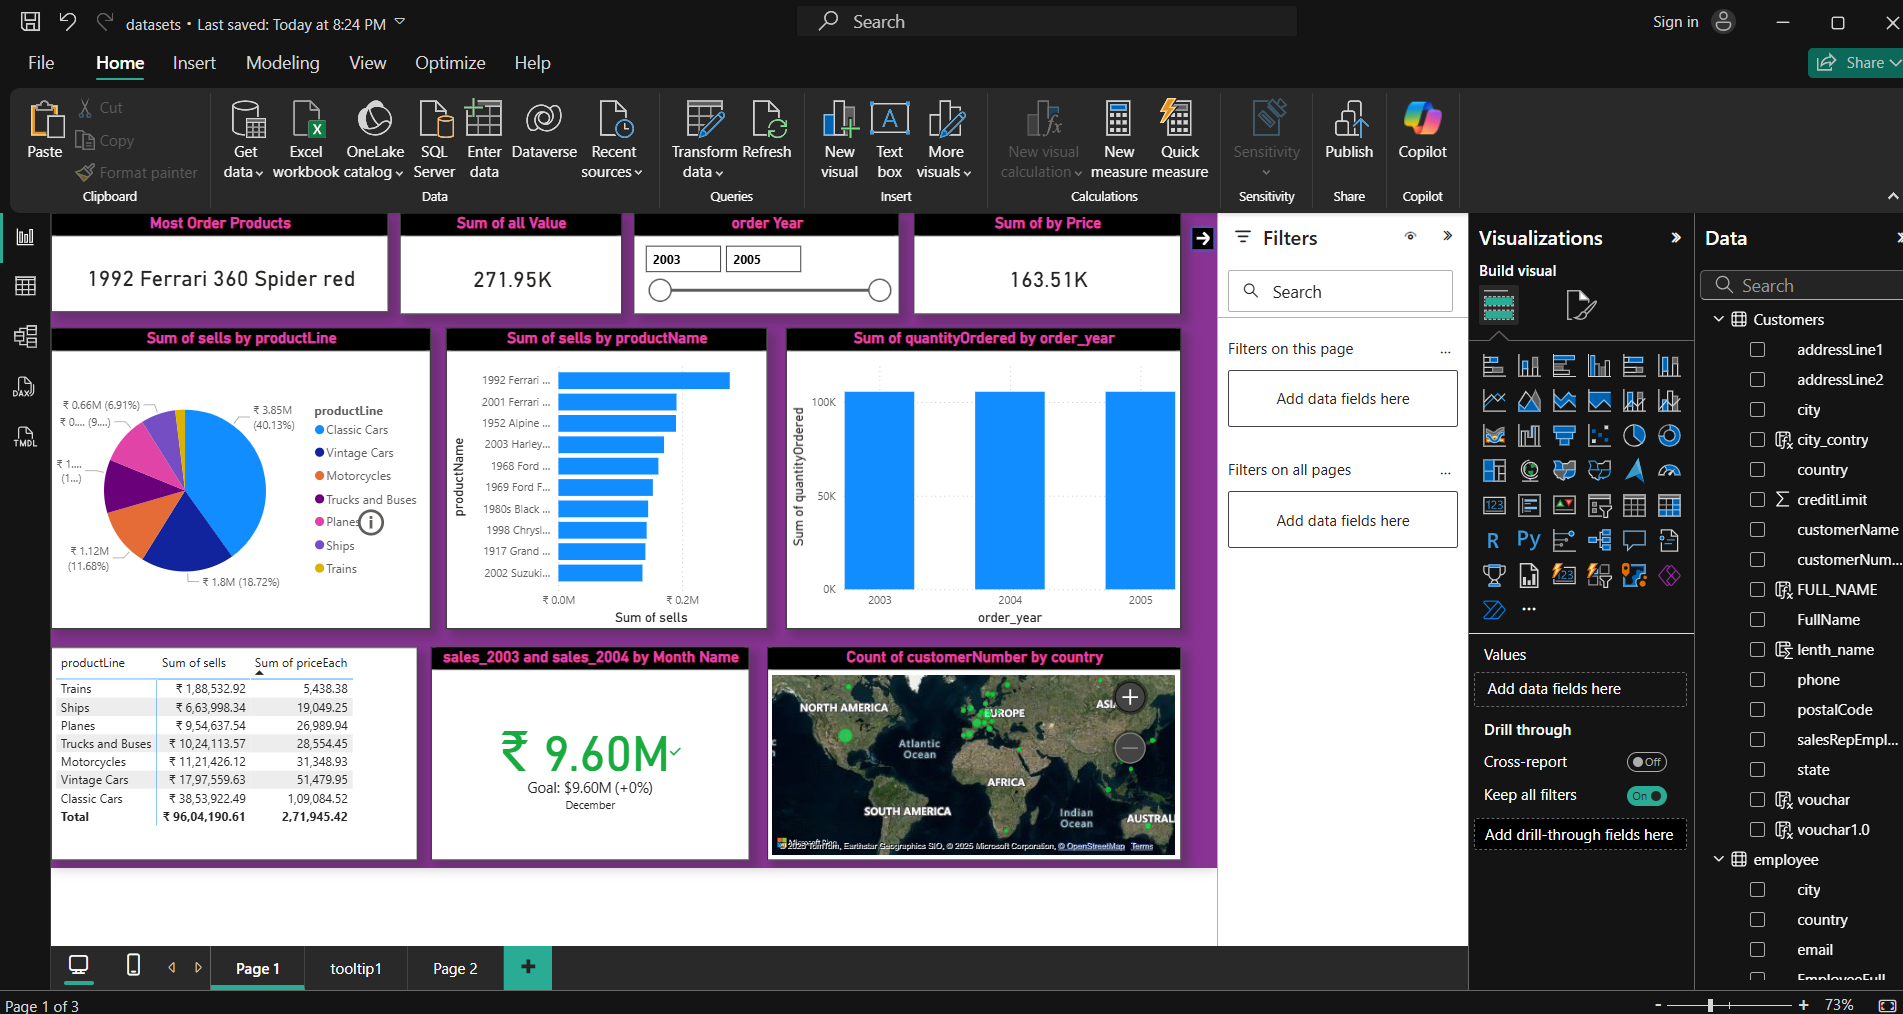

The dashboard page shown, as its layout file describes it:
{"tool":"powerbi","page":{"name":"Page 1","canvas":[1280,720],"ordinal":0},"visuals":[{"type":"cardVisual","title":"Most Order Products","fields":{"Data":["Min(orders details.MostOrderedProduct)"]},"box":[0,0,370.5,108.4],"z":0},{"type":"cardVisual","title":"Sum of all Value","fields":{"Data":["Sum(orders details.priceEach)"]},"box":[382.8,0,244.3,111.1],"z":1000},{"type":"barChart","fields":{"Category":["products.productName"],"Y":["Sum(orders details.sells)"]},"box":[433.6,126.2,352.7,330.7],"z":2000},{"type":"pieChart","fields":{"Y":["Sum(orders details.sells)"],"Category":["products.productLine"]},"box":[0,126.2,417.2,330.7],"z":3000},{"type":"pivotTable","fields":{"Rows":["products.productLine"],"Values":["Sum(orders details.sells)","Sum(orders details.priceEach)"]},"box":[0,476.2,402.1,234.6],"z":4000},{"type":"slicer","title":"order Year","fields":{"Values":["order.order_year"]},"box":[639.5,0,292.3,111.1],"z":5000},{"type":"cardVisual","title":"Sum of by Price","fields":{"Data":["Sum(orders details.buyPrice)"]},"box":[946.8,0,293.7,111.1],"z":6000},{"type":"kpi","fields":{"Goal":["order.sales_2004"],"TrendLine":["order.Month Name"],"Indicator":["order.sales_2003"]},"box":[417.2,476.2,349.9,234.6],"z":7000},{"type":"map","fields":{"Category":["Customers.country"],"Size":["CountNonNull(Customers.customerNumber)"]},"box":[786.3,476.2,454.2,234.6],"z":8000},{"type":"columnChart","fields":{"Y":["Sum(orders details.quantityOrdered)"],"Category":["order.order_year"]},"box":[806.9,126.2,433.6,330.7],"z":9000},{"type":"actionButton","box":[1248.7,12.3,31.6,31.6],"z":9002},{"type":"actionButton","box":[332.1,319.7,38.4,39.8],"z":9003}]}

Visuals, with their boxes on the page's 1280x720 design canvas (x1, y1, x2, y2). These are canvas units, not pixel positions in the 1903x1014 screenshot, which may show the page scaled, cropped or inside an application window:
"Most Order Products" cardVisual: (x1=0, y1=0, x2=370, y2=108)
"Sum of all Value" cardVisual: (x1=383, y1=0, x2=627, y2=111)
barChart - products.productName x Sum(orders details.sells): (x1=434, y1=126, x2=786, y2=457)
pieChart - Sum(orders details.sells) x products.productLine: (x1=0, y1=126, x2=417, y2=457)
pivotTable - products.productLine x Sum(orders details.sells): (x1=0, y1=476, x2=402, y2=711)
"order Year" slicer: (x1=640, y1=0, x2=932, y2=111)
"Sum of by Price" cardVisual: (x1=947, y1=0, x2=1240, y2=111)
kpi - order.sales_2004 x order.Month Name: (x1=417, y1=476, x2=767, y2=711)
map - Customers.country x CountNonNull(Customers.customerNumber): (x1=786, y1=476, x2=1240, y2=711)
columnChart - Sum(orders details.quantityOrdered) x order.order_year: (x1=807, y1=126, x2=1240, y2=457)
actionButton: (x1=1249, y1=12, x2=1280, y2=44)
actionButton: (x1=332, y1=320, x2=370, y2=360)
